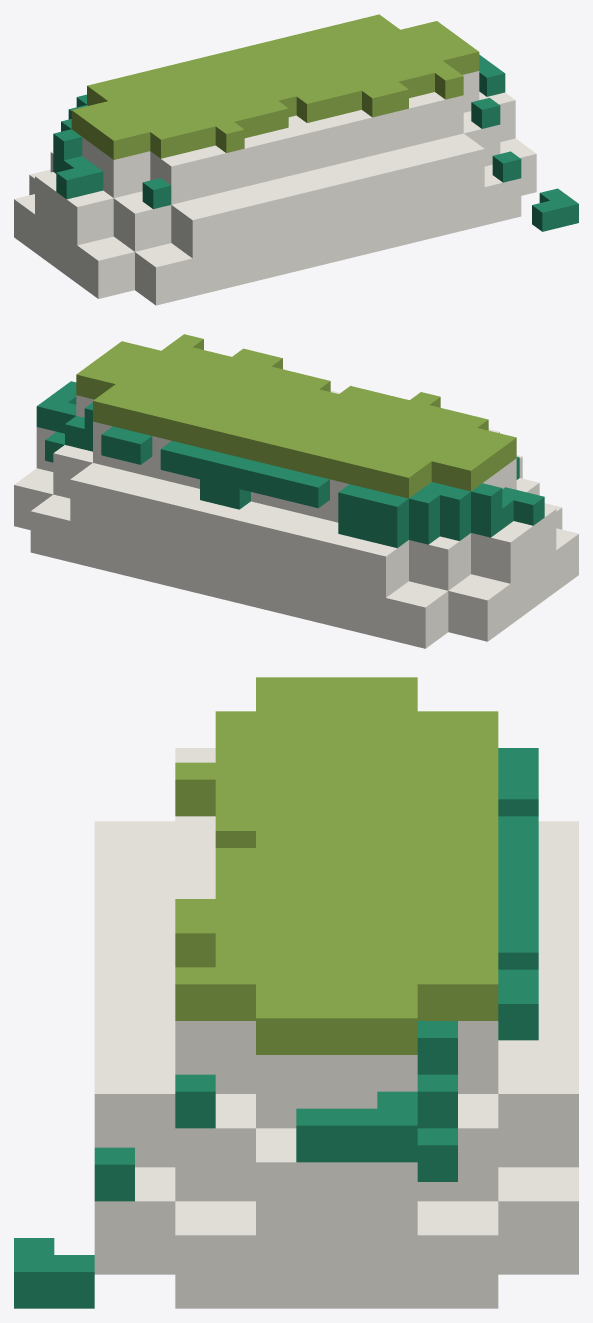
The model's file is comida-4.obj.
3 views of the same model, one above another, from view 1: azimuth 30°, elevation 25°; view 2: azimuth 150°, elevation 25°; view 3: azimuth 270°, elevation 25° (orthographic). The views are drawn at different scales.
Bounding box in the file's own units: 4.8 × 1.4 × 2.8.
1 material, 1 textured.
